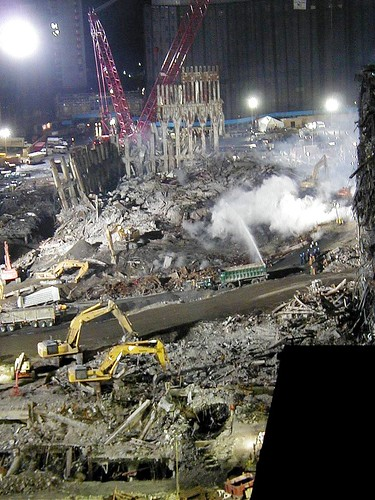crane: (86, 1, 217, 167)
debris: (1, 126, 361, 296)
excavator: (66, 334, 169, 397), (39, 296, 132, 359)
